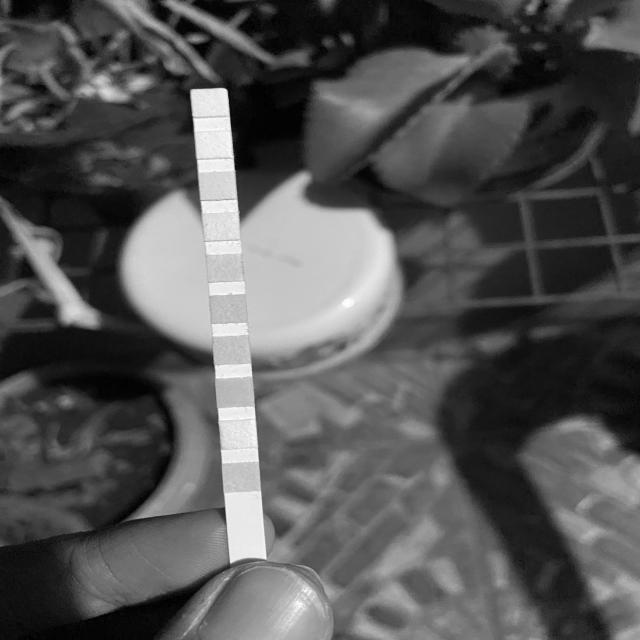Bilirubin: (222, 422, 256, 448)
Blood: (213, 294, 245, 322)
Glucose: (224, 464, 260, 490)
Ketone: (219, 380, 251, 406)
Leukocytes: (193, 88, 226, 115)
Nitrite: (197, 133, 233, 158)
Protein: (206, 215, 238, 240)
SpGravity: (216, 336, 249, 364)
Urobilinogen: (202, 173, 234, 200)
background: (0, 0, 640, 640)
pH: (209, 255, 242, 281)
strip: (190, 88, 267, 560)
